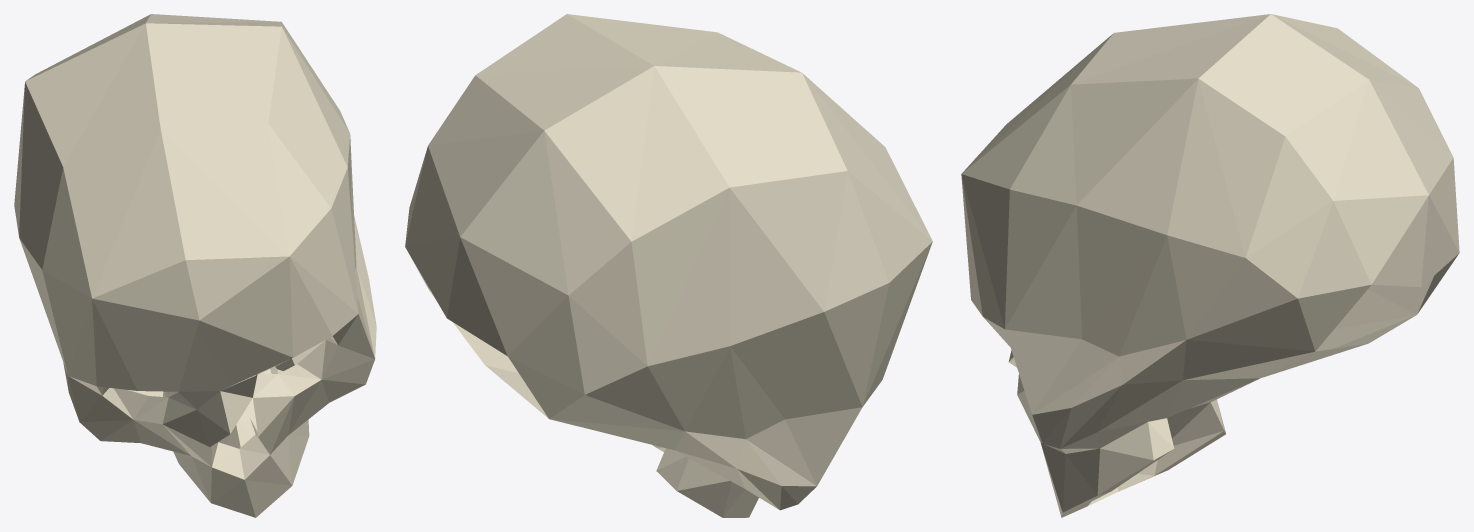
Rendered from Skull002.gltf.
The picture shows the model from 3 angles, left to right: view 1: azimuth 30°, elevation 25°; view 2: azimuth 150°, elevation 25°; view 3: azimuth 270°, elevation 25°; orthographic projection. The views are drawn at different scales.
Visible parts, largest first — view 1: Skull002; view 2: Skull002; view 3: Skull002.
Part boxes in pixels (x1,y1,x2,y2): Skull002: (14,14,376,517); Skull002: (405,14,932,517); Skull002: (961,14,1459,517).
Bounding box in the file's own units: 0.1953 × 0.2367 × 0.2165.
